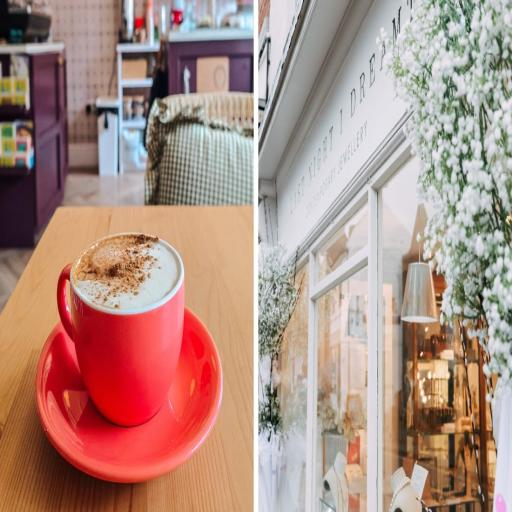phone: (58, 230, 184, 428)
